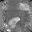people: (9, 17, 20, 29)
